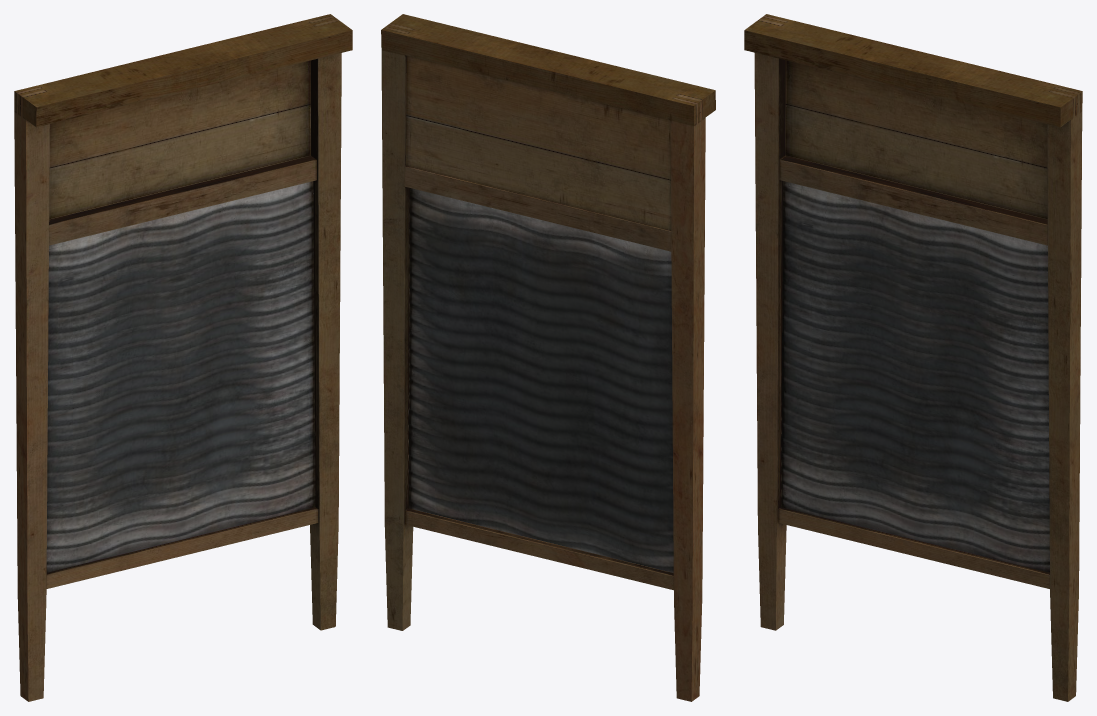
Rendered from washboard.glb.
3 renders of one model, left to right at view 1: azimuth 30°, elevation 25°; view 2: azimuth 150°, elevation 25°; view 3: azimuth 330°, elevation 25°, orthographic.
Visible parts, largest first — view 1: metalplate_washboard_0, wood_base_washboard_0, wood_plank3_washboard_0, wood_plank1_washboard_0, wood_plank2_washboard_0; view 2: metalplate_washboard_0, wood_base_washboard_0, wood_plank3_washboard_0, wood_plank1_washboard_0, wood_plank2_washboard_0; view 3: metalplate_washboard_0, wood_base_washboard_0, wood_plank3_washboard_0, wood_plank1_washboard_0, wood_plank2_washboard_0.
Boxes of the visible parts, box(x1,y1,x2,y2) form: metalplate_washboard_0: box(46, 181, 315, 572); wood_base_washboard_0: box(14, 14, 352, 701); wood_plank3_washboard_0: box(49, 60, 310, 219); wood_plank1_washboard_0: box(49, 155, 316, 245); wood_plank2_washboard_0: box(46, 507, 318, 588); metalplate_washboard_0: box(409, 188, 673, 572); wood_base_washboard_0: box(381, 14, 715, 701); wood_plank3_washboard_0: box(406, 56, 671, 230); wood_plank1_washboard_0: box(405, 166, 671, 251); wood_plank2_washboard_0: box(405, 508, 673, 590); metalplate_washboard_0: box(781, 181, 1049, 572); wood_base_washboard_0: box(744, 14, 1082, 701); wood_plank3_washboard_0: box(785, 60, 1047, 219); wood_plank1_washboard_0: box(779, 155, 1047, 245); wood_plank2_washboard_0: box(778, 507, 1049, 588).
Size of the model in its own units: 22.3 by 40.73 by 2.7.
1 material, 1 textured.
